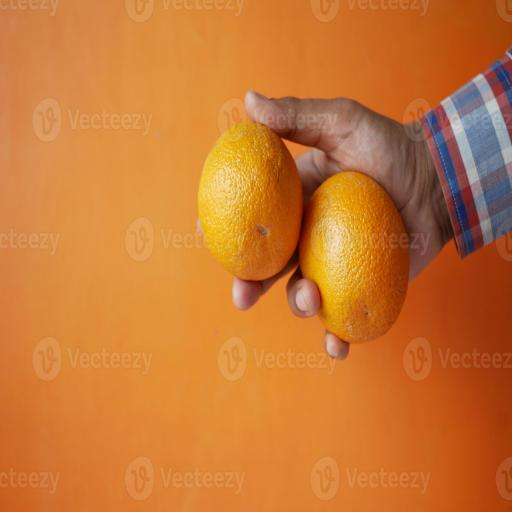orange: (300, 172, 409, 342), (199, 123, 303, 280)
